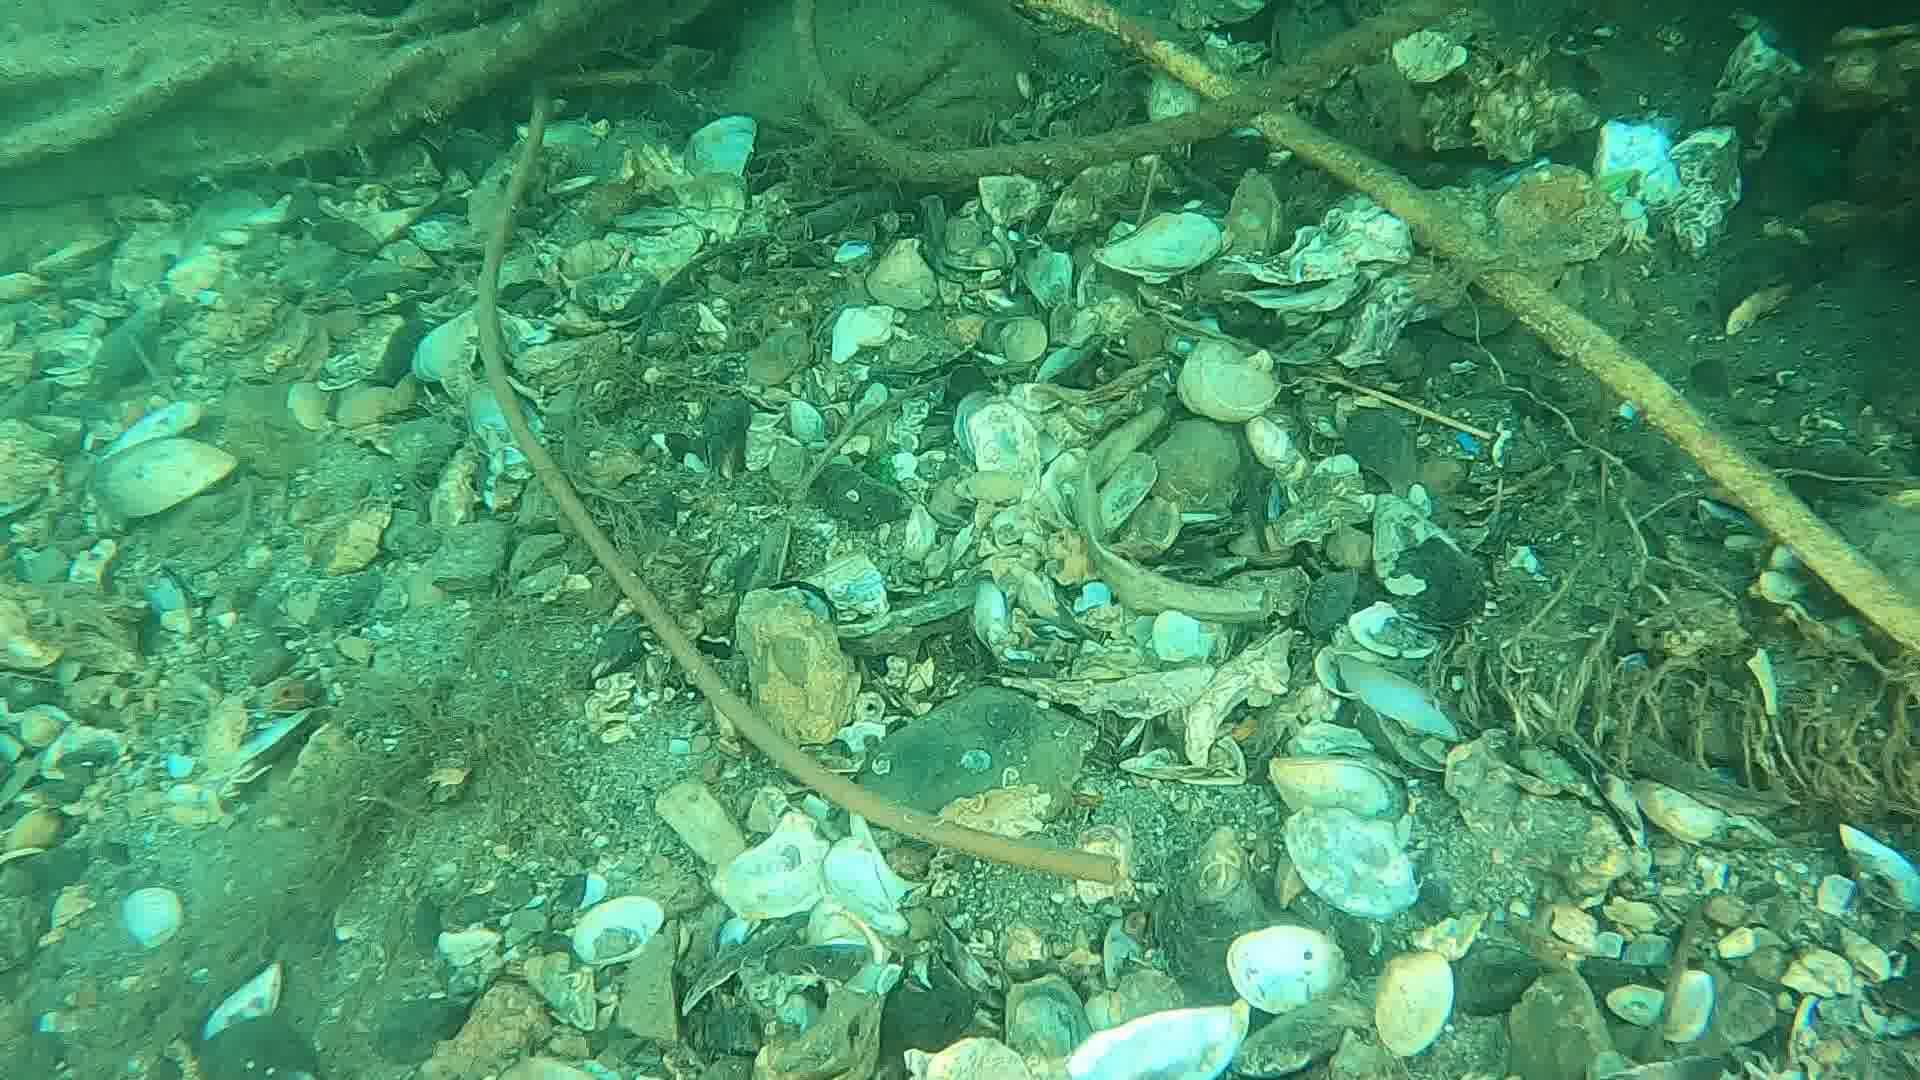rope: (1014, 0, 1920, 655), (790, 0, 1481, 179)
